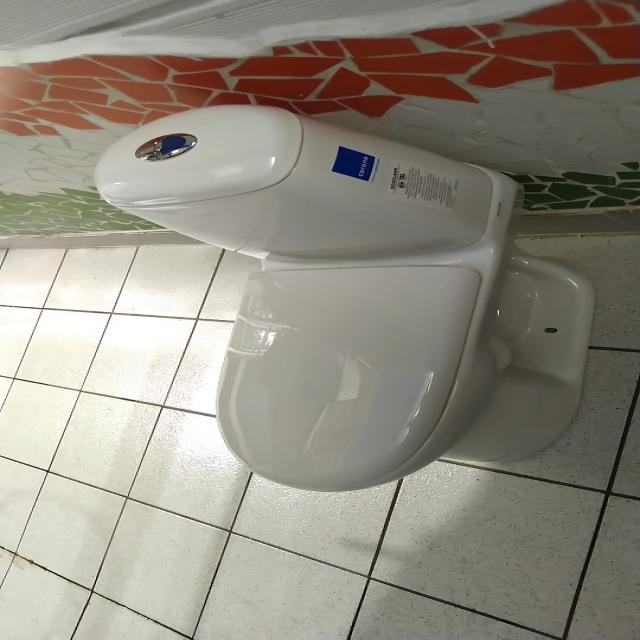toilet: (86, 98, 604, 500)
